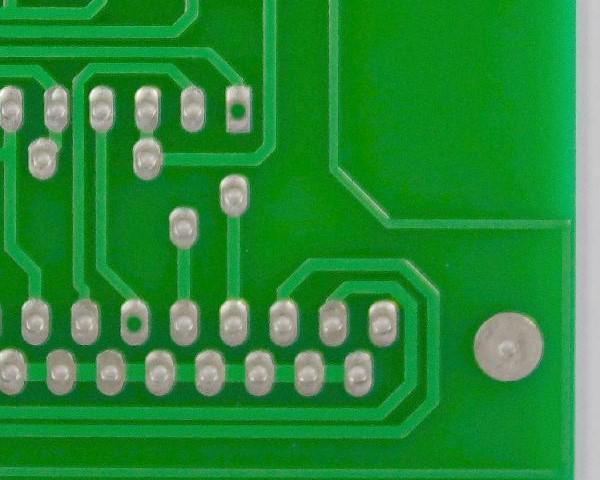missing hole: (113, 294, 156, 352), (222, 82, 256, 138)
